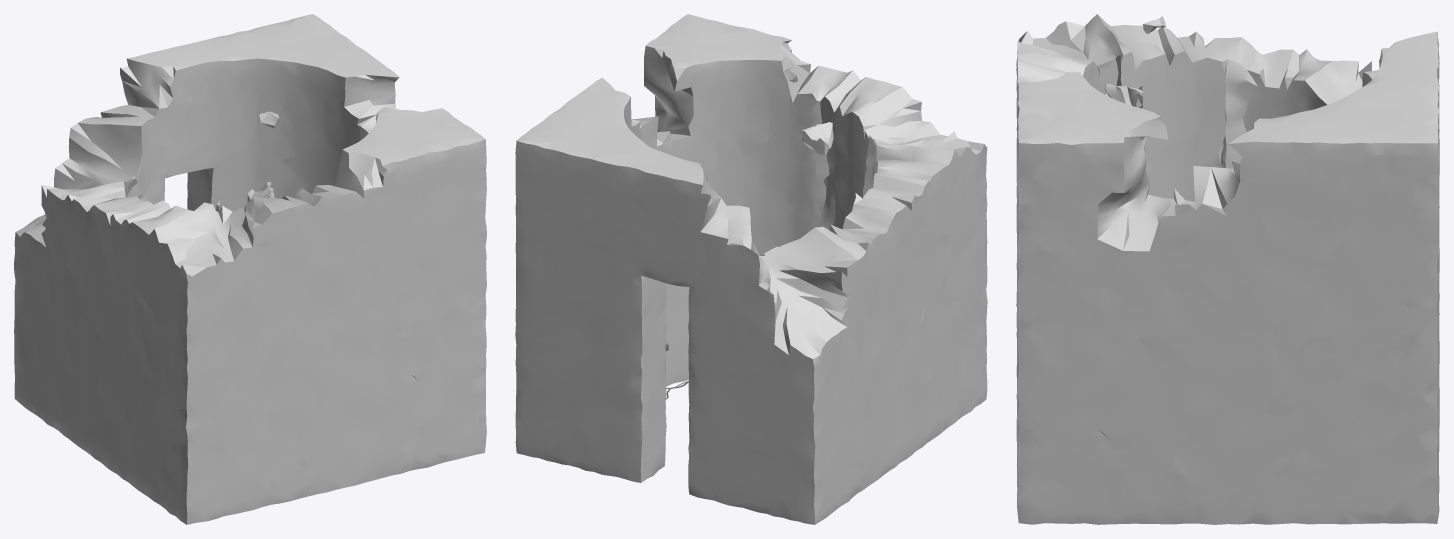
Rendered from room-01.fbx.
3 renders of one model, left to right at view 1: azimuth 30°, elevation 25°; view 2: azimuth 150°, elevation 25°; view 3: azimuth 270°, elevation 25°, orthographic. The views are drawn at different scales.
Parts seen in each view (by area): view 1: ROOM_01_clean_clean1; view 2: ROOM_01_clean_clean1, shard_01; view 3: ROOM_01_clean_clean1, shard_01.
Boxes of the visible parts, box(x1,y1,x2,y2) form: ROOM_01_clean_clean1: box(14, 14, 486, 524); ROOM_01_clean_clean1: box(515, 14, 987, 524); shard_01: box(800, 122, 833, 155); ROOM_01_clean_clean1: box(1016, 14, 1439, 524); shard_01: box(1104, 83, 1142, 108).
Size of the model in its own units: 12.2 by 13.1 by 12.19.
4 materials, 2 textured.
